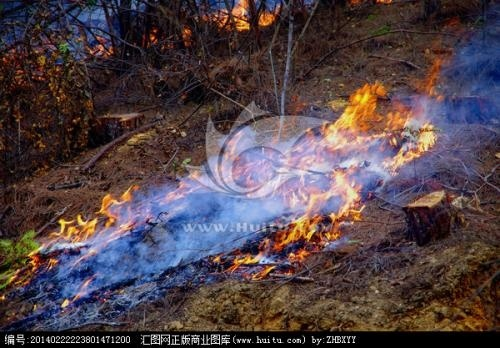fire: (207, 72, 462, 263), (30, 181, 145, 300), (142, 23, 195, 48), (85, 35, 115, 58)
